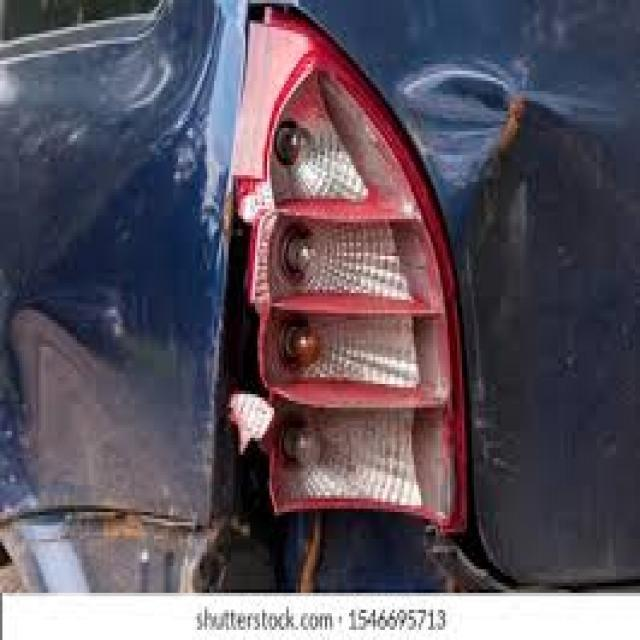damaged-tail-light: (228, 0, 472, 539)
